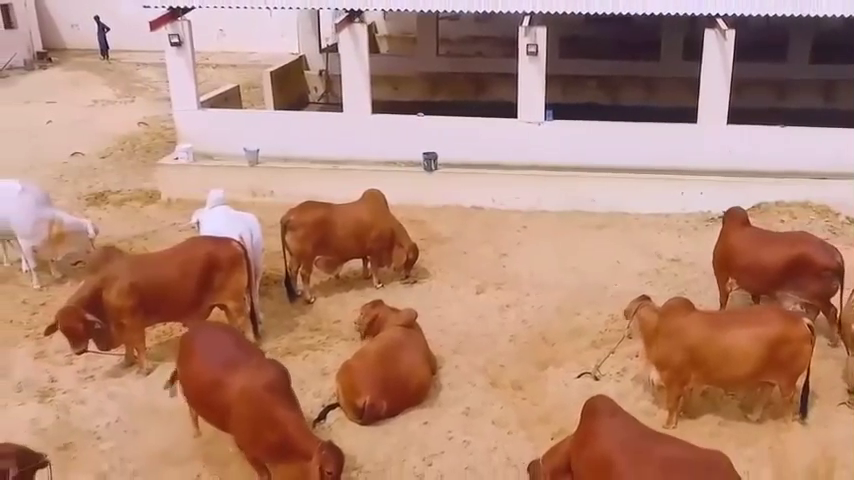bo: (616, 286, 824, 439), (49, 230, 259, 380), (168, 316, 347, 478), (513, 387, 749, 480), (273, 185, 429, 311), (700, 197, 844, 322), (323, 296, 443, 425), (2, 171, 103, 297), (187, 184, 266, 326)
